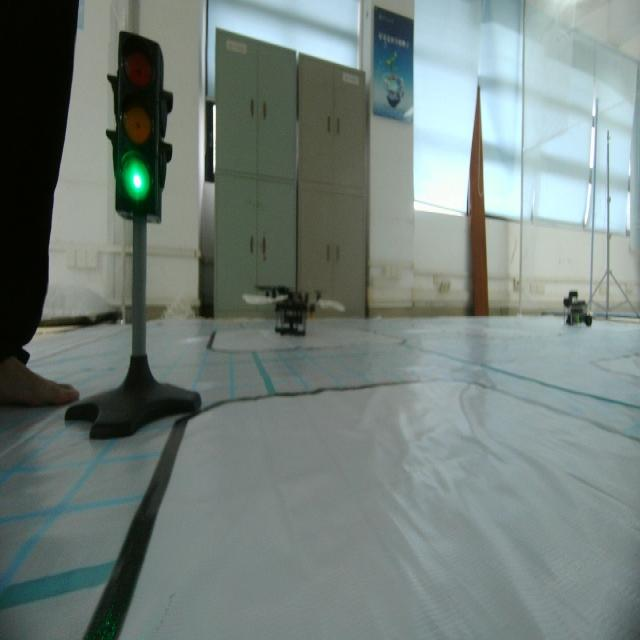green: (109, 21, 175, 234)
